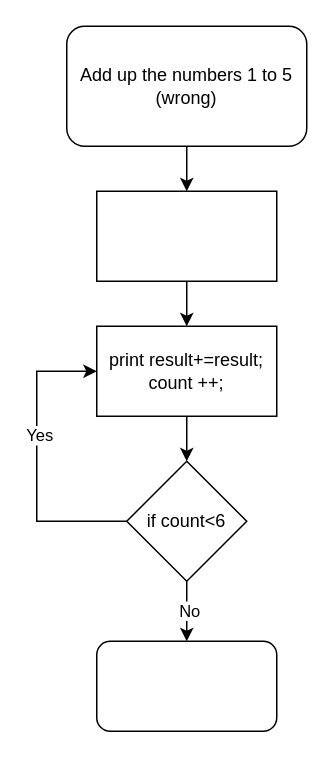
Some shapes in this 333 by 758 pixel diagram are drawn without their labels. Each missing label, with the centre of its shape:
"End" goes at point 186,685.
"int count = 1; int result=0;" goes at point 186,235.
